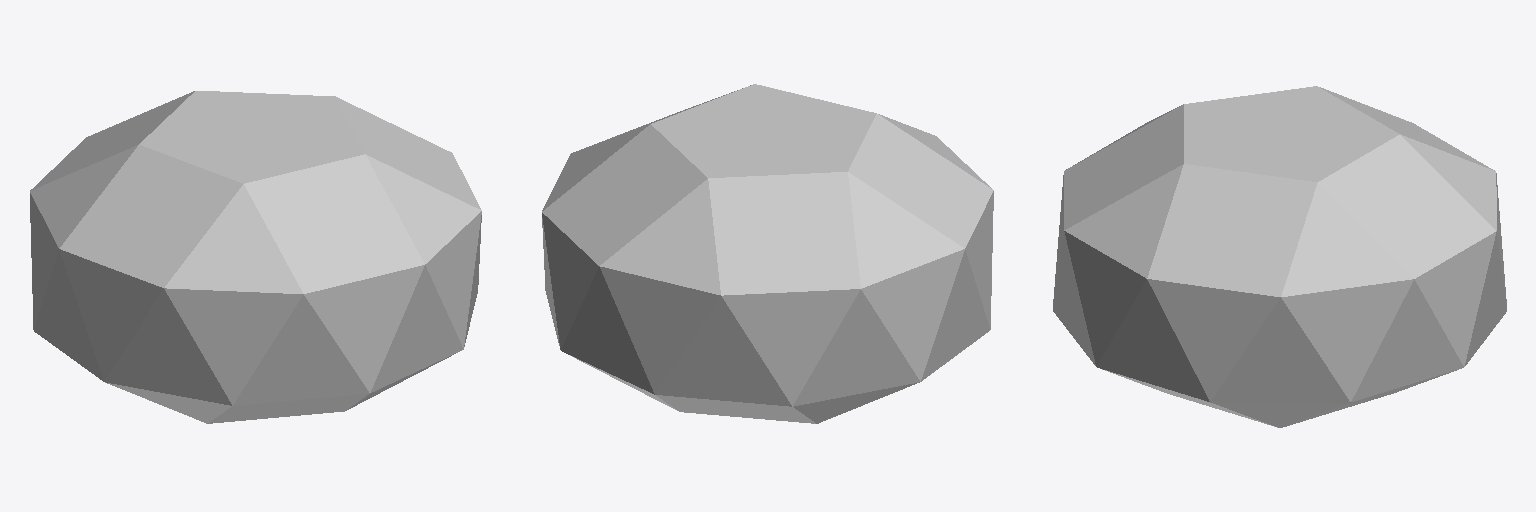
Rendered from GyroElongatedPentagonalBiCupola.obj.
3 renders of one model, left to right at view 1: azimuth 30°, elevation 25°; view 2: azimuth 150°, elevation 25°; view 3: azimuth 270°, elevation 25°, orthographic.
Visible parts, largest first — view 1: GyroElongatedPentagonalBiCupola; view 2: GyroElongatedPentagonalBiCupola; view 3: GyroElongatedPentagonalBiCupola.
Part boxes in pixels (x1,y1,x2,y2): GyroElongatedPentagonalBiCupola: (30,91,481,423); GyroElongatedPentagonalBiCupola: (542,84,993,423); GyroElongatedPentagonalBiCupola: (1053,86,1506,427).
Bounding box in the file's own units: 2.43 × 1.44 × 2.43.